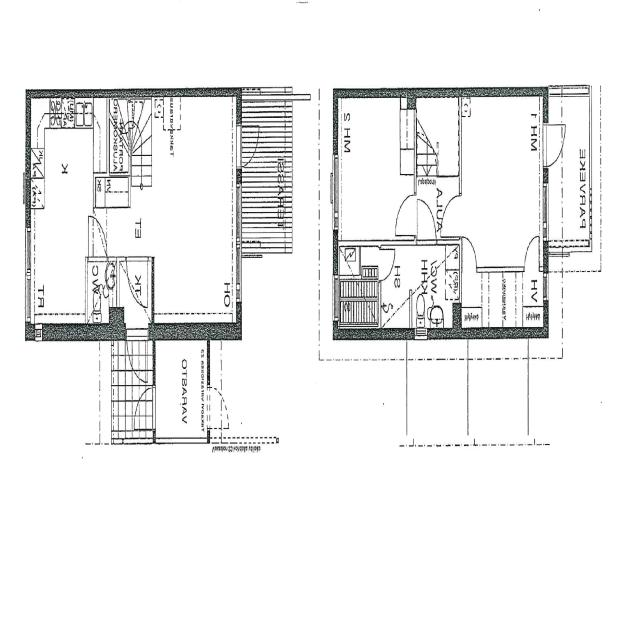door: (125, 325, 150, 381), (125, 256, 151, 308), (393, 187, 418, 240), (207, 383, 231, 428), (544, 119, 566, 168), (416, 193, 438, 240), (440, 190, 462, 237), (88, 210, 108, 256), (240, 123, 259, 169), (460, 231, 480, 271), (378, 242, 397, 282), (523, 230, 541, 268)
window: (155, 428, 207, 452), (331, 151, 342, 230), (23, 251, 34, 325), (257, 237, 290, 260), (541, 176, 550, 231), (234, 122, 242, 174), (413, 324, 428, 342)
zone: (147, 91, 237, 326), (460, 94, 544, 269), (30, 120, 92, 328), (336, 96, 414, 242), (377, 240, 459, 331), (153, 337, 210, 442), (414, 95, 461, 181), (336, 241, 380, 324), (459, 268, 502, 332), (505, 268, 546, 332), (87, 255, 119, 321), (124, 255, 152, 313)
